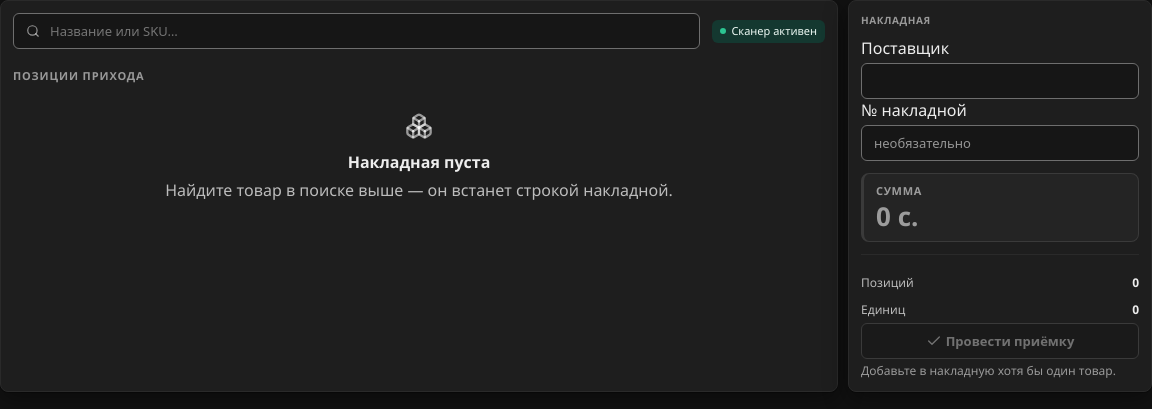
Test: ReceivingWorkspace › поиск добавляет товар строкой с преподставленной себестоимостью (avgCost)
Type "cola" into the search field named "Добавить товар" at (368, 31), box [48,21,687,41]
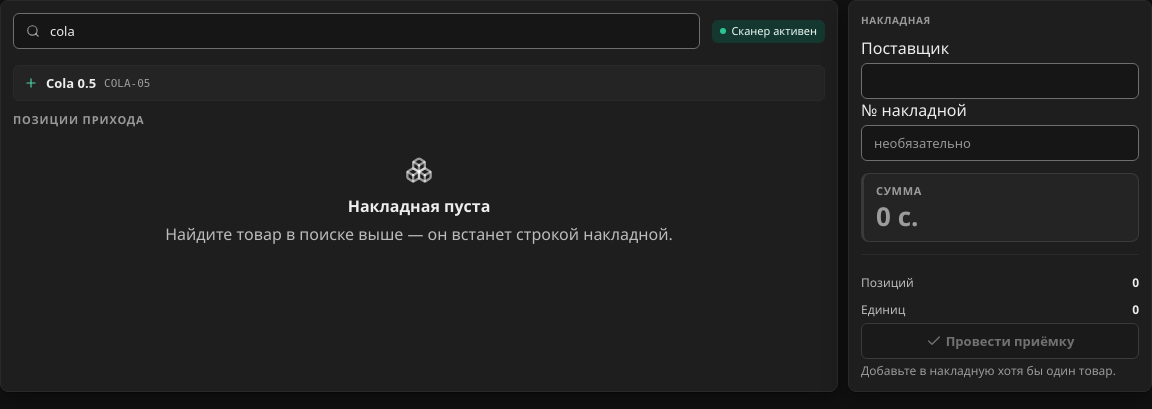
Click the button "Cola 0.5 COLA-05" at (71, 83), box [14,66,824,100]
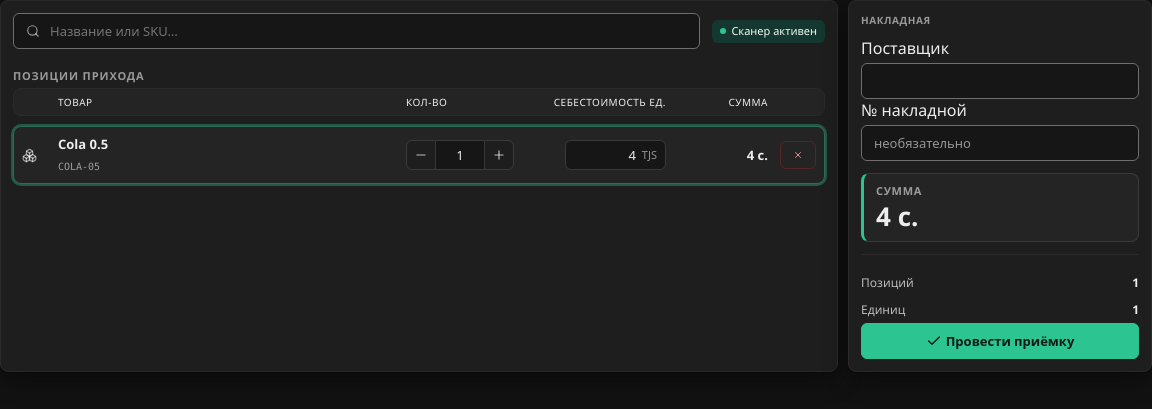
Expected: the text "Cola 0.5" is shown, [58,135,108,153]
Expected: the field named "Себестоимость ед." holds "4", [574,145,638,165]
